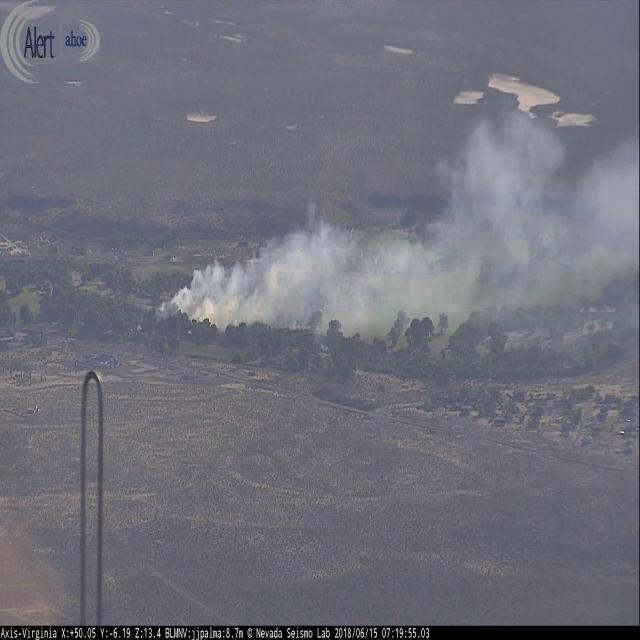smoke: (143, 103, 634, 347)
